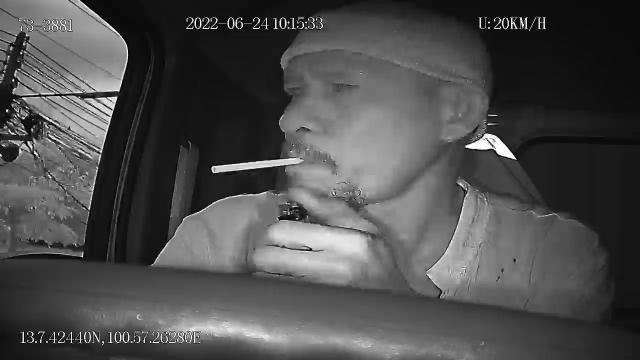SafeDriving: (318, 68, 368, 100)
Smoking: (210, 154, 308, 174)
